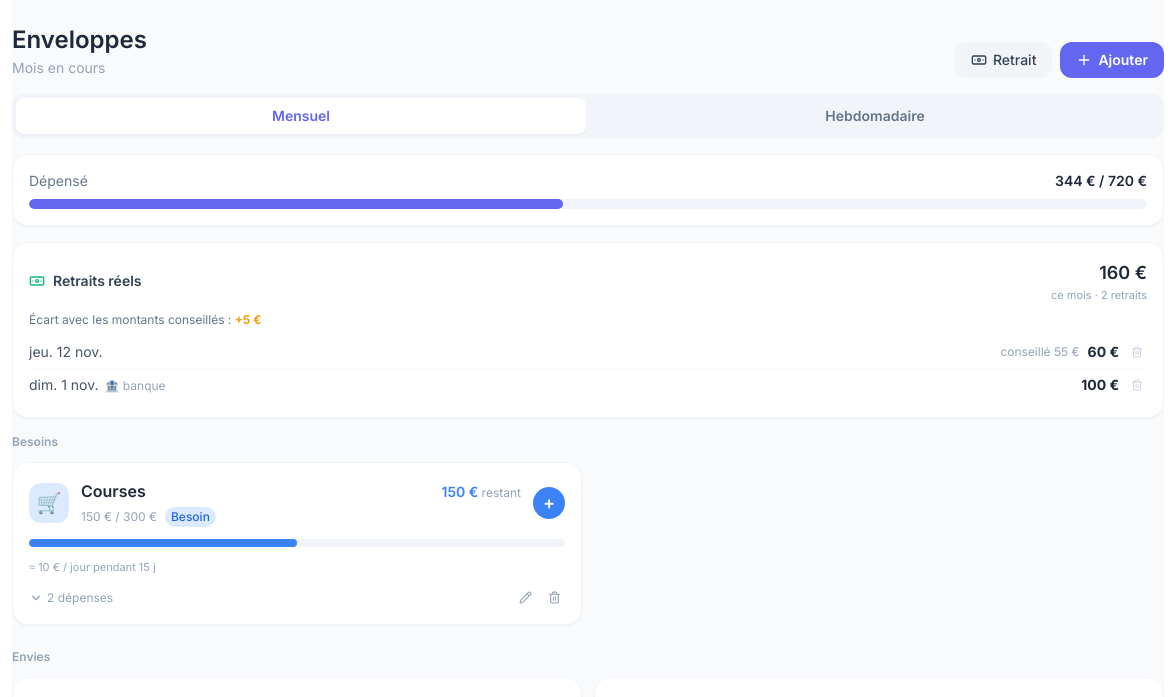
Scenario: Enveloppes › vue hebdomadaire calée sur le dernier retrait
The width and height of the screenshot is (1176, 697).
Click the button "Hebdomadaire": (875, 116) [590,98,1160,134]
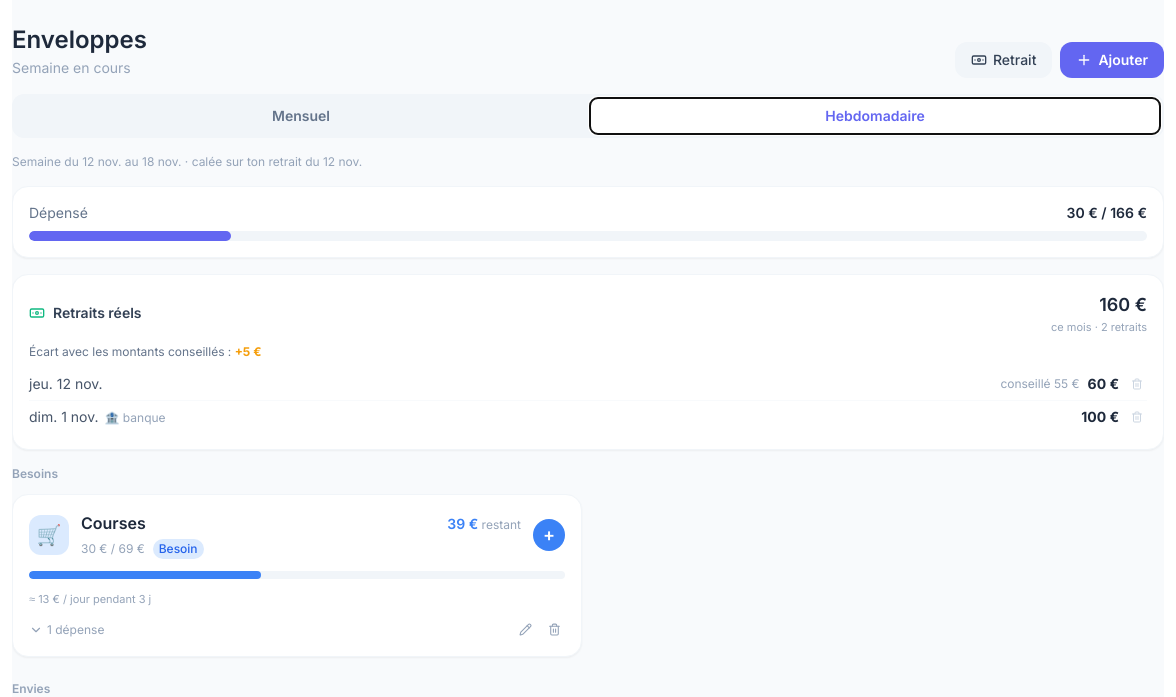
Check: the text "calée sur ton retrait du 12 nov" is shown, box [182,154,362,169]
